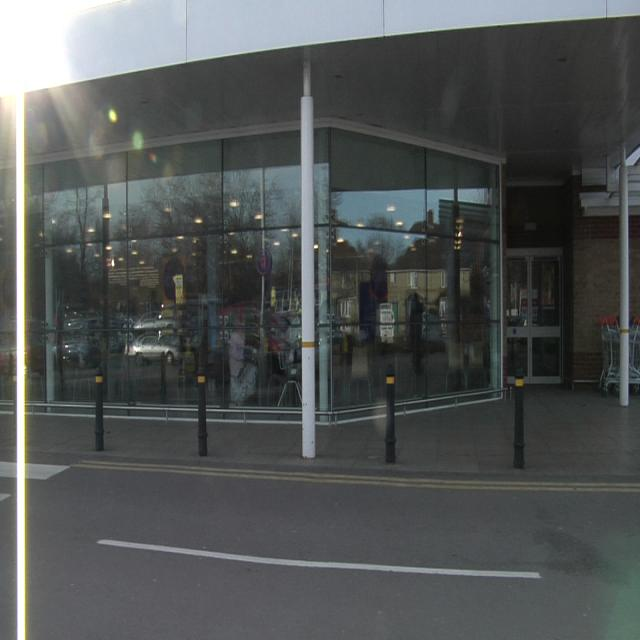Road: (30, 462, 640, 638)
